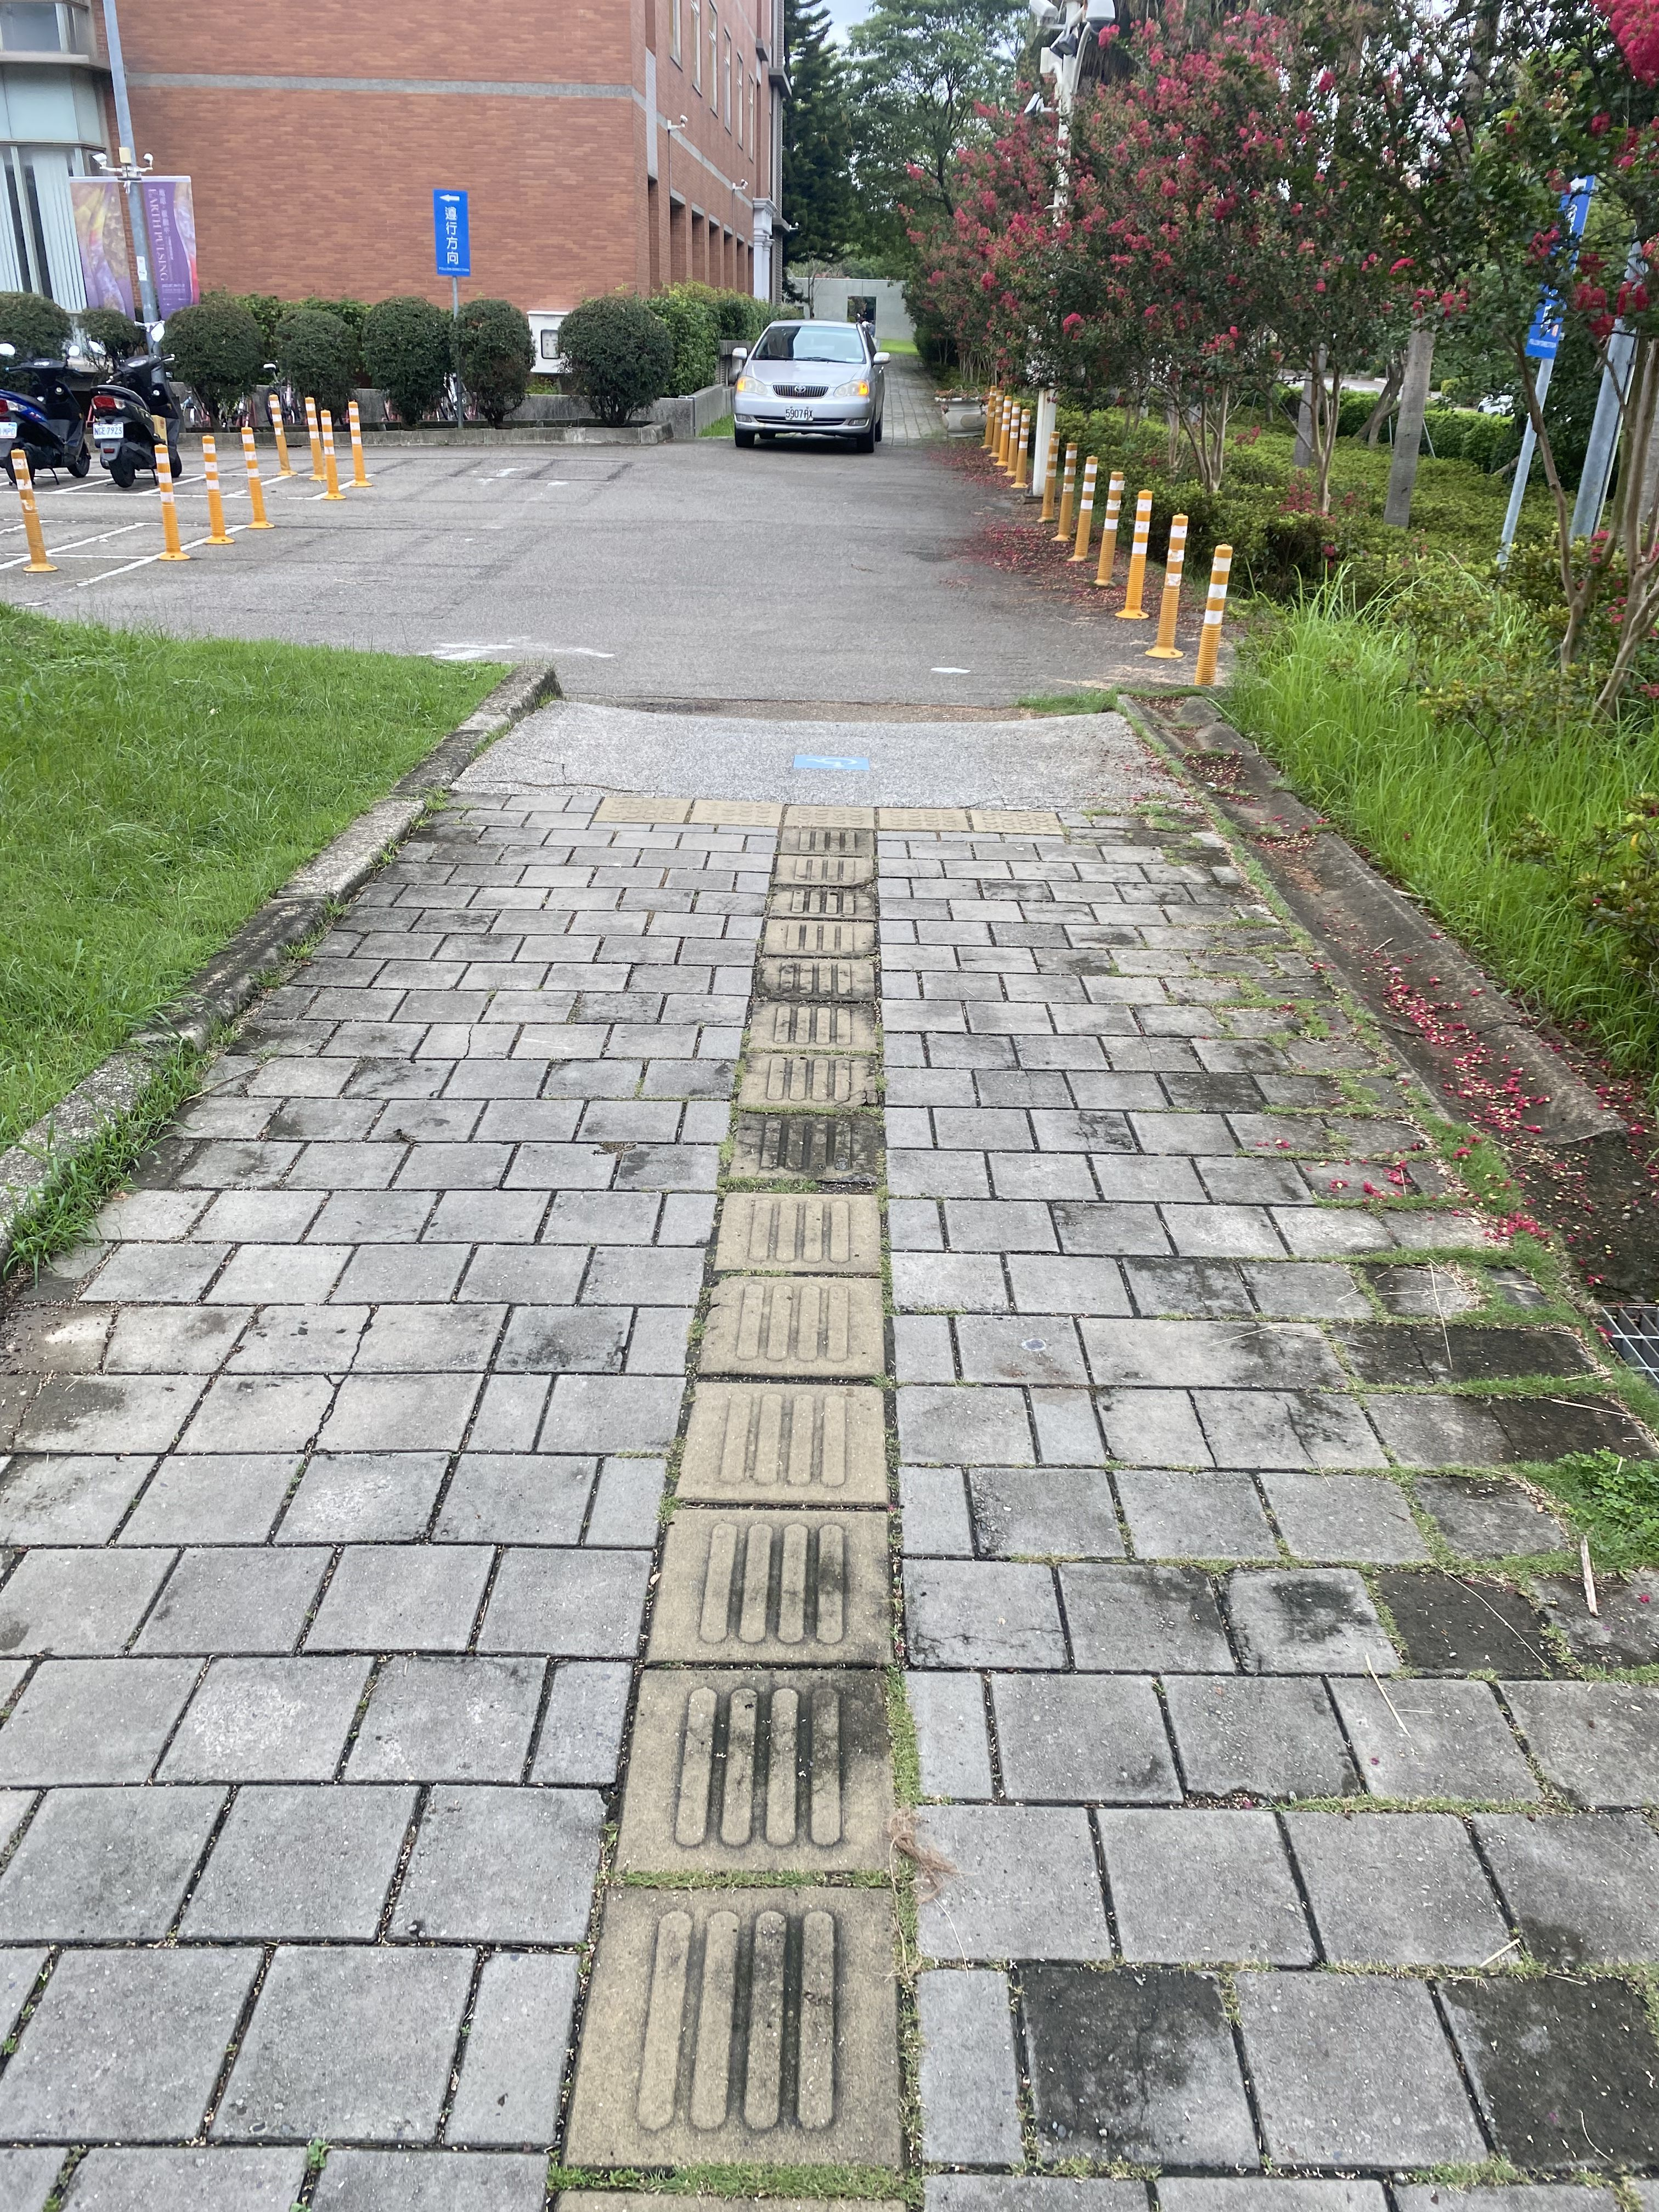0: (14, 711, 1659, 2212)
sidewalk: (659, 324, 1194, 880)
